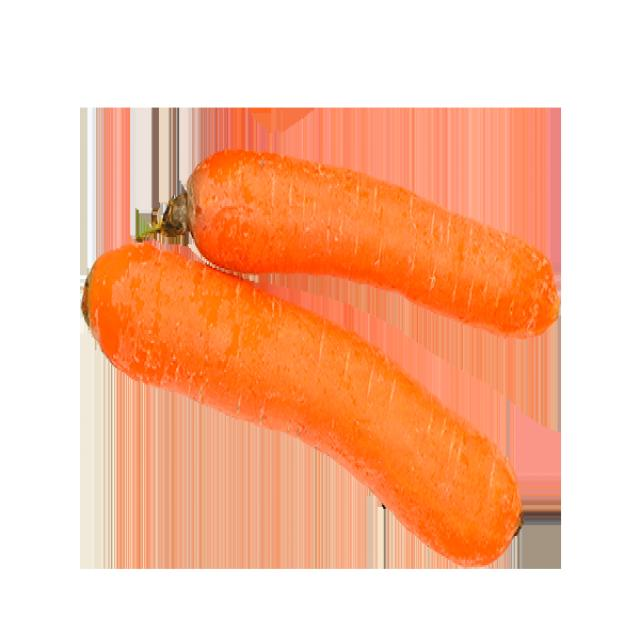Carrot: (69, 244, 527, 575), (182, 146, 564, 348)
